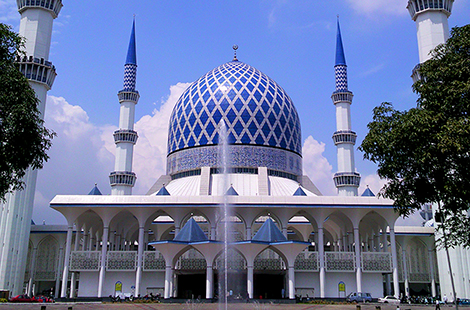Mosque: (2, 18, 400, 297)
